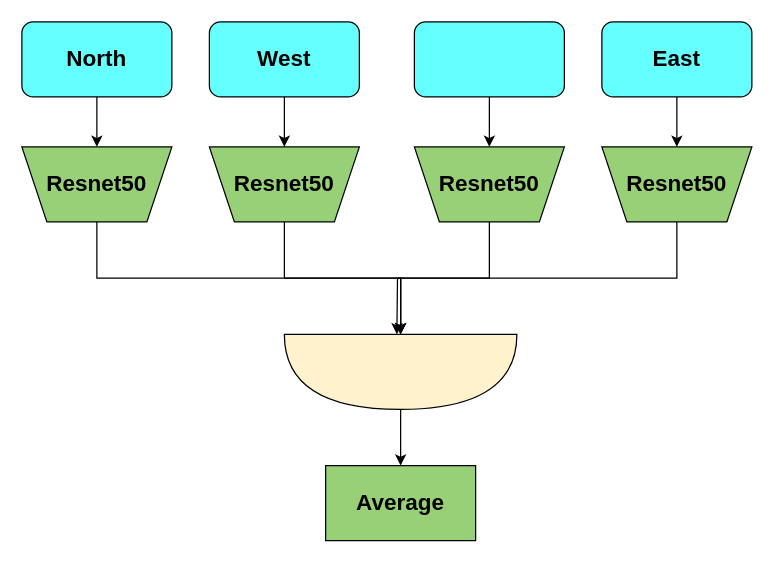
Image size: 774x563. Some labels were removed from this diagram. Here are the shapes that lost their labels. From the top down, the centre of each, then its label:
At pixel 488 59: "South".
At pixel 400 371: "Concatenation".
